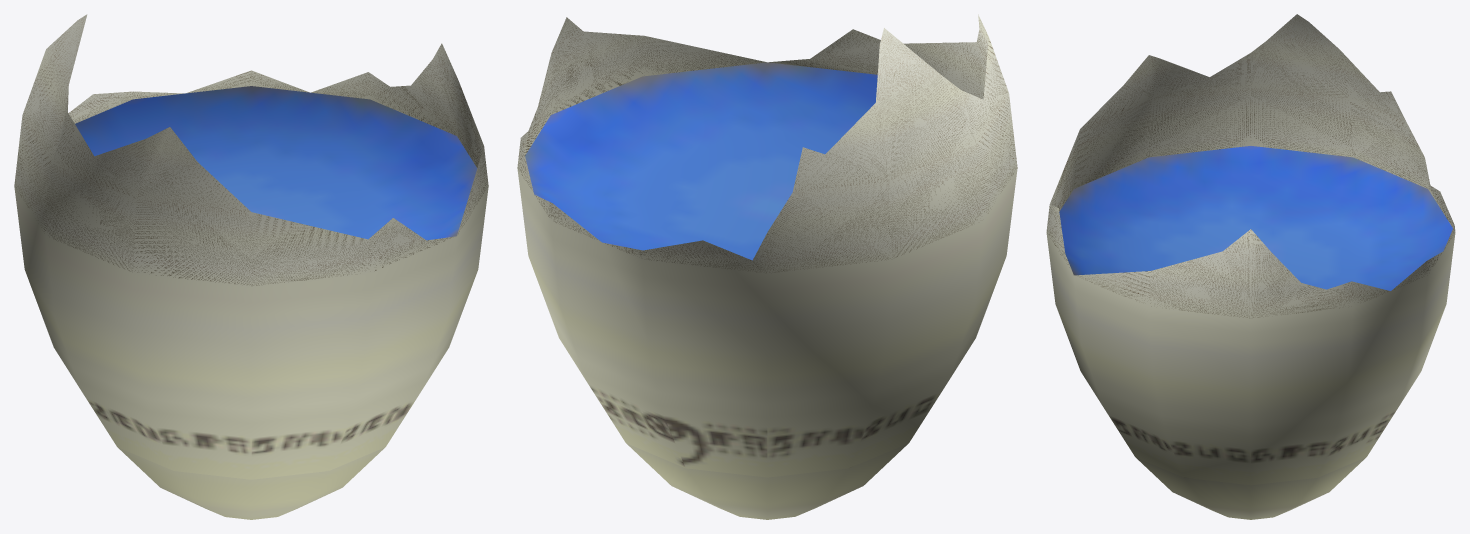
Rendered from icon1.ico.obj.
The picture shows the model from 3 angles, left to right: view 1: azimuth 30°, elevation 25°; view 2: azimuth 150°, elevation 25°; view 3: azimuth 270°, elevation 25°; orthographic projection. The views are drawn at different scales.
Bounding box in the file's own units: 3 × 3.55 × 3.
1 material, 1 textured.
